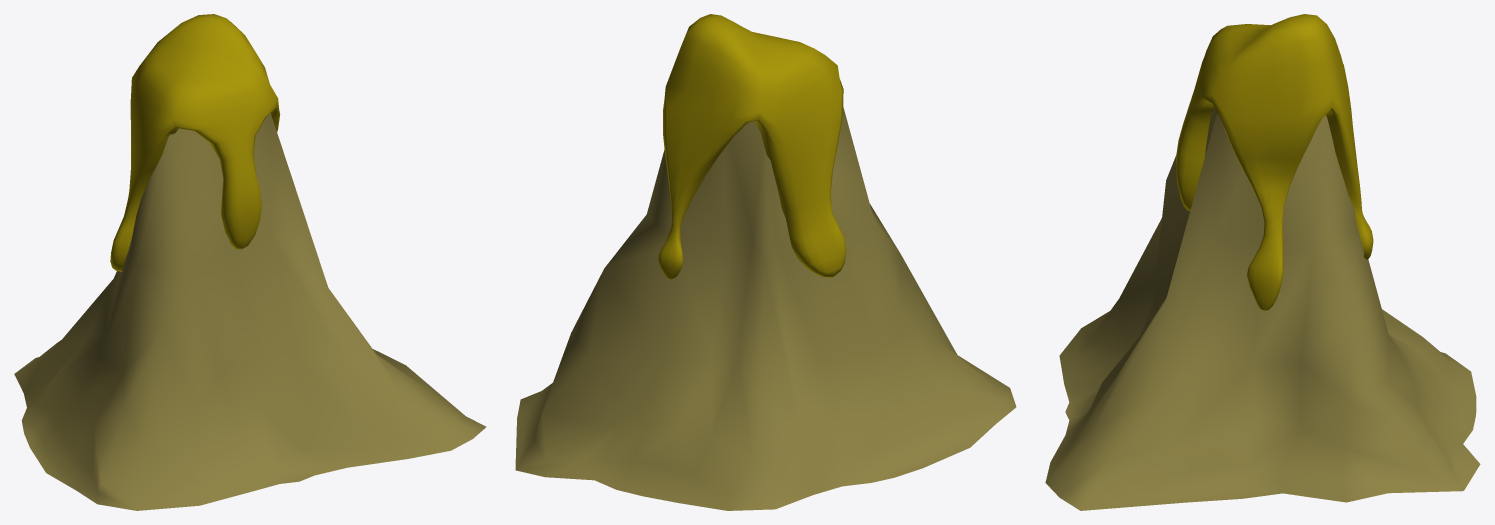
File: Pillar2.fbx
3 views of the same model, side by side, from view 1: azimuth 30°, elevation 25°; view 2: azimuth 150°, elevation 25°; view 3: azimuth 270°, elevation 25° (orthographic). The views are drawn at different scales.
Visible parts, largest first — view 1: Pillar, Honey; view 2: Pillar, Honey; view 3: Pillar, Honey.
Part boxes in pixels (x1,y1,x2,y2): Pillar: (14, 113, 486, 510); Honey: (110, 14, 280, 271); Pillar: (515, 106, 1016, 510); Honey: (658, 14, 846, 279); Pillar: (1045, 107, 1480, 510); Honey: (1175, 14, 1373, 310).
Bounding box in the file's own units: 0.8484 × 0.8394 × 0.7973.
